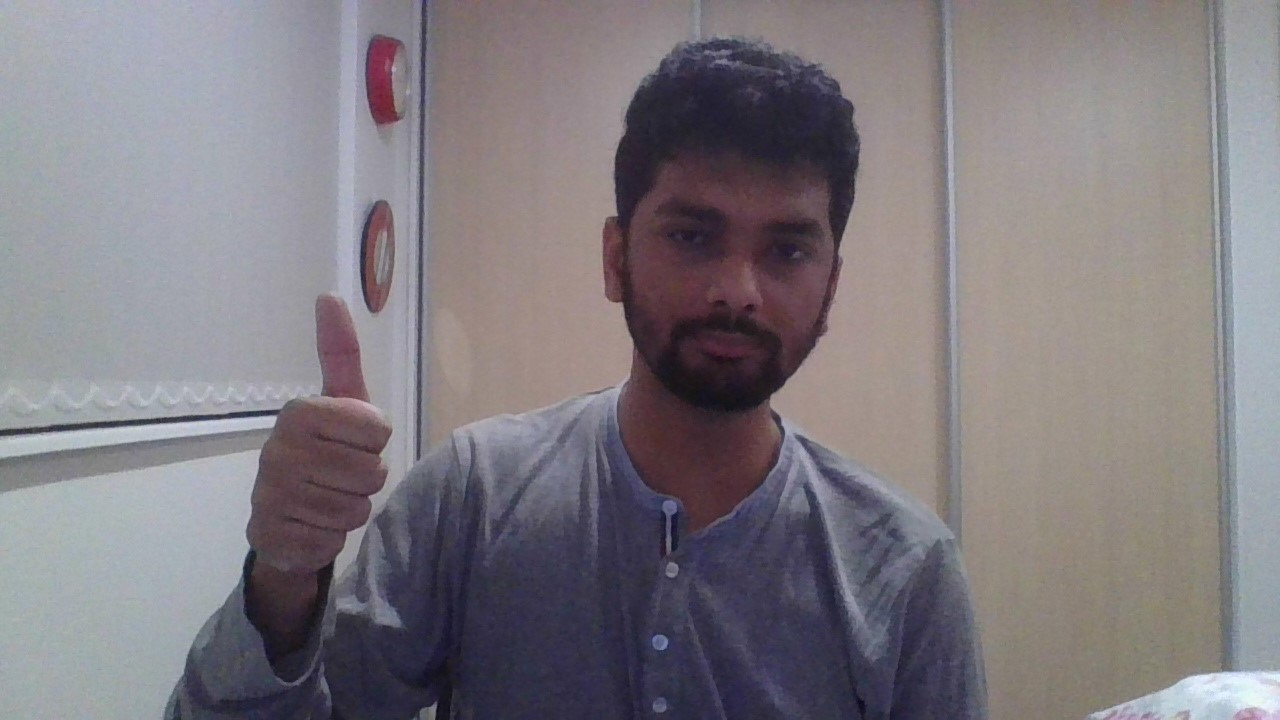good: (246, 294, 392, 572)
